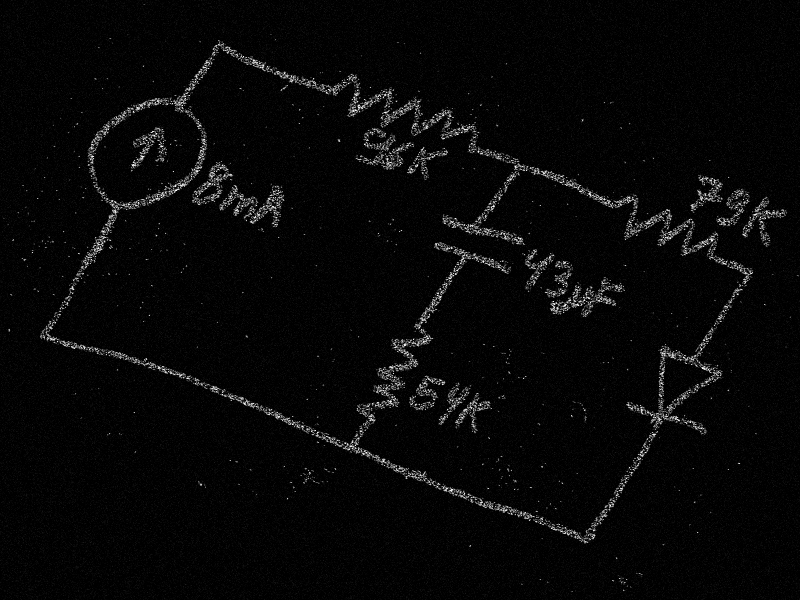3: (534, 256, 583, 304)
4: (506, 243, 558, 297), (429, 378, 474, 431)
5: (402, 371, 450, 417)
6: (378, 135, 417, 177)
7: (677, 169, 734, 220)
8: (186, 157, 239, 212)
9: (347, 124, 399, 172), (709, 185, 756, 232)
A: (247, 182, 297, 234)
F: (579, 275, 629, 325)
k: (735, 193, 795, 250), (451, 390, 497, 437), (403, 140, 450, 185)
m: (213, 182, 265, 224)
u: (554, 279, 596, 321)
